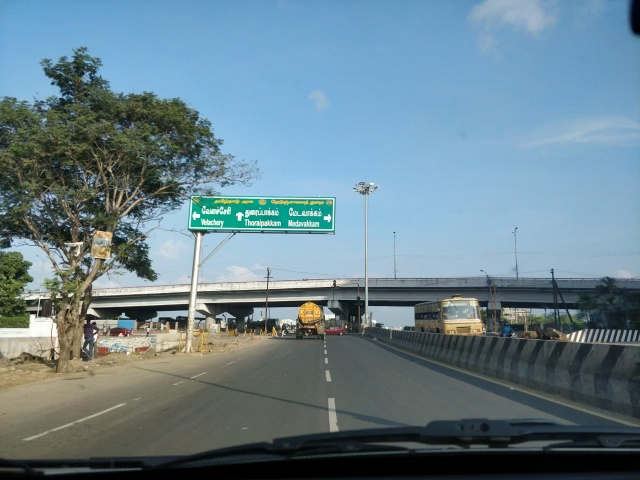bus: (412, 298, 486, 341)
car: (322, 325, 347, 338)
motorbike: (497, 318, 520, 343)
person: (81, 315, 98, 362)
truck: (291, 301, 330, 343)
